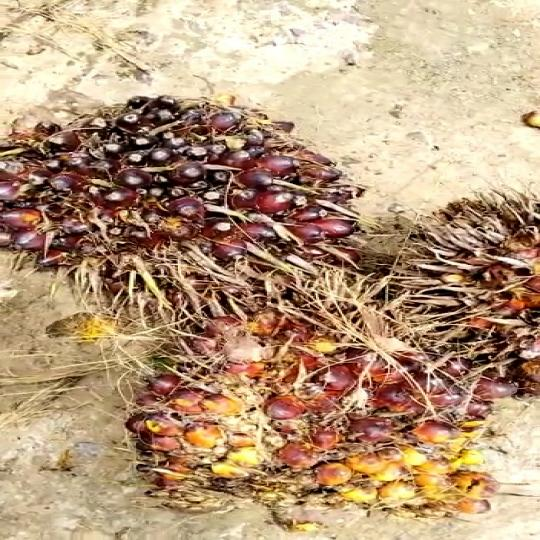masak: (120, 261, 529, 529), (0, 90, 394, 326)
